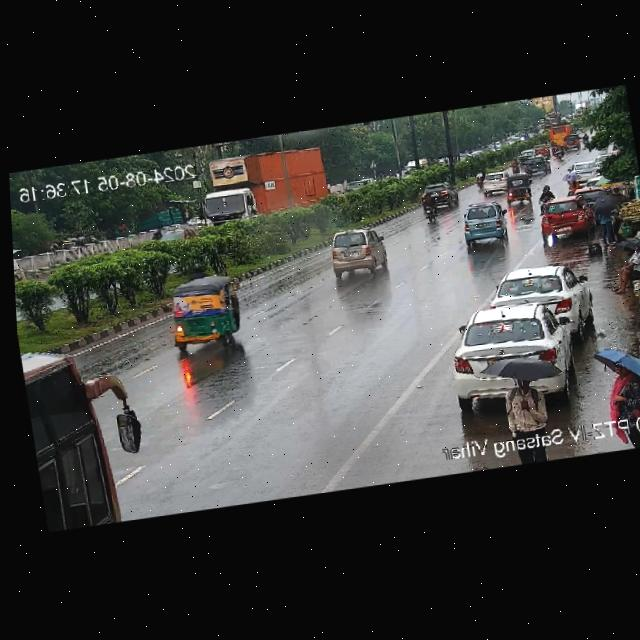bus: (19, 328, 152, 530), (547, 120, 577, 146)
car: (443, 295, 593, 407), (159, 274, 251, 354), (490, 260, 592, 330), (322, 225, 389, 277), (538, 196, 593, 237), (460, 201, 508, 247), (417, 179, 459, 207), (500, 173, 535, 203), (476, 172, 512, 195), (519, 156, 553, 176), (561, 133, 580, 151), (514, 149, 538, 162)
motorcycle: (421, 190, 439, 225), (549, 141, 563, 161), (511, 158, 520, 173)
person: (490, 354, 561, 438), (606, 355, 640, 421), (589, 187, 624, 245), (606, 240, 640, 293), (565, 174, 585, 194), (535, 184, 554, 205)
truck: (188, 143, 342, 228)
